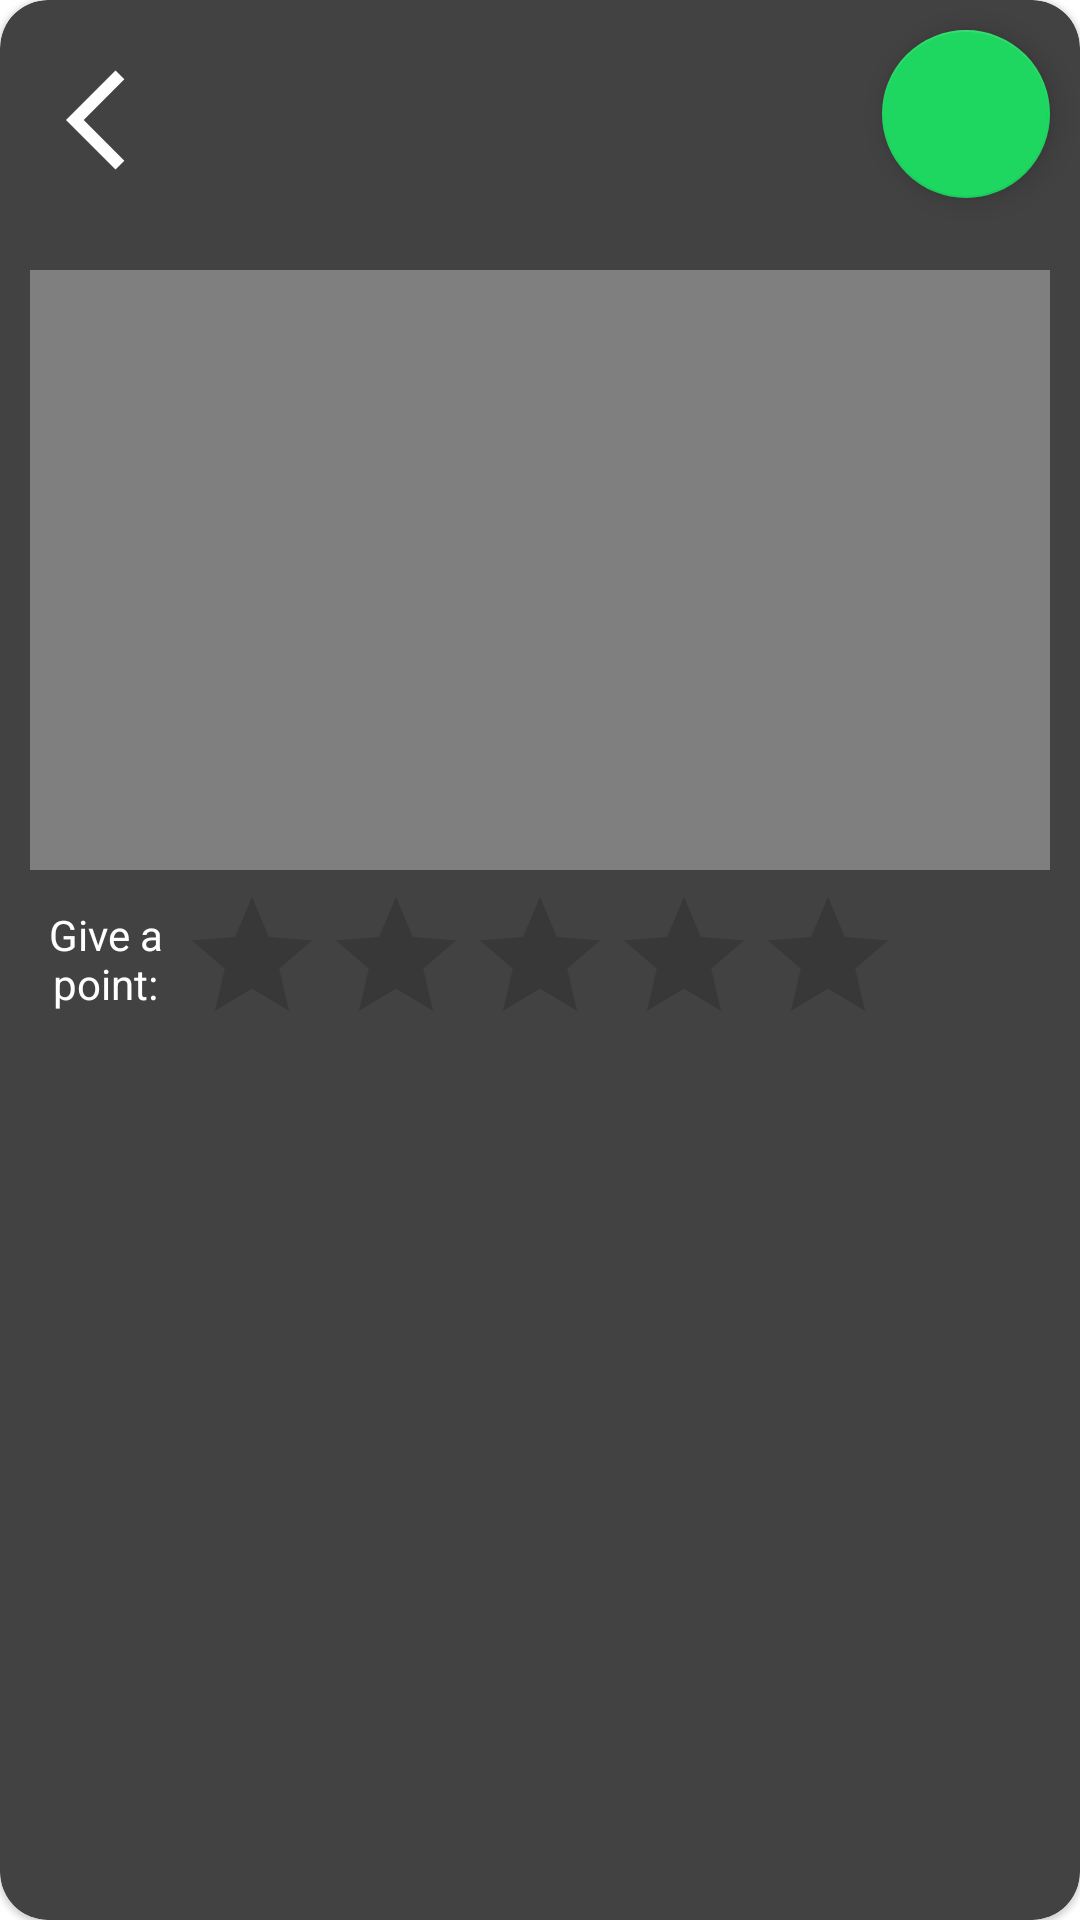

Icon bounding boxes for this 1080x1920 phone screenshot, format bbox=(x1, y1, x2, y2):
arrow back: bbox=(66, 70, 124, 170)
